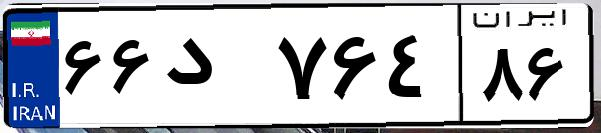4: (385, 28, 445, 110)
6: (330, 28, 385, 110), (57, 26, 110, 100), (525, 38, 570, 115), (110, 28, 158, 98)
7: (270, 28, 330, 110)
8: (475, 38, 525, 113)
د: (158, 20, 270, 120)
